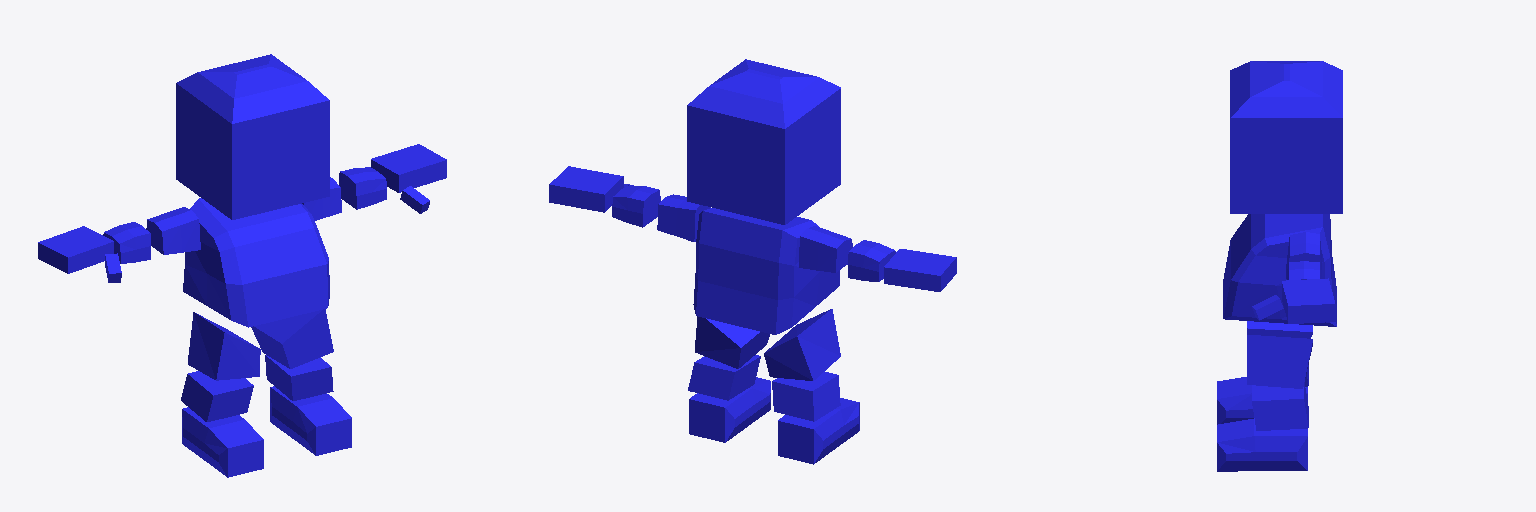
3 views of the same model, side by side, from view 1: azimuth 30°, elevation 25°; view 2: azimuth 150°, elevation 25°; view 3: azimuth 270°, elevation 25° (orthographic).
Visible parts, largest first — view 1: Platformer; view 2: Platformer; view 3: Platformer.
Part boxes in pixels (x1,y1,x2,y2): Platformer: (38, 54, 446, 477); Platformer: (549, 59, 956, 464); Platformer: (1217, 61, 1342, 471).
Size of the model in its own units: 2.61 by 2.35 by 0.7313.
Materials: 1 (1 with a texture image).